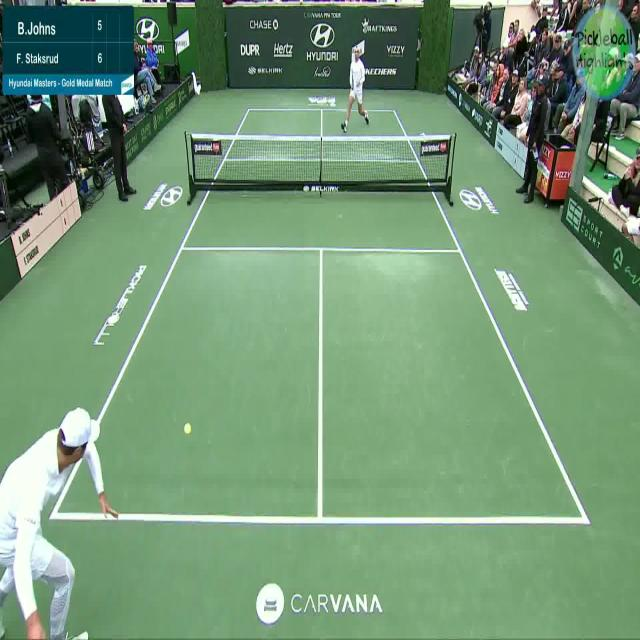ball: (180, 415, 195, 440)
